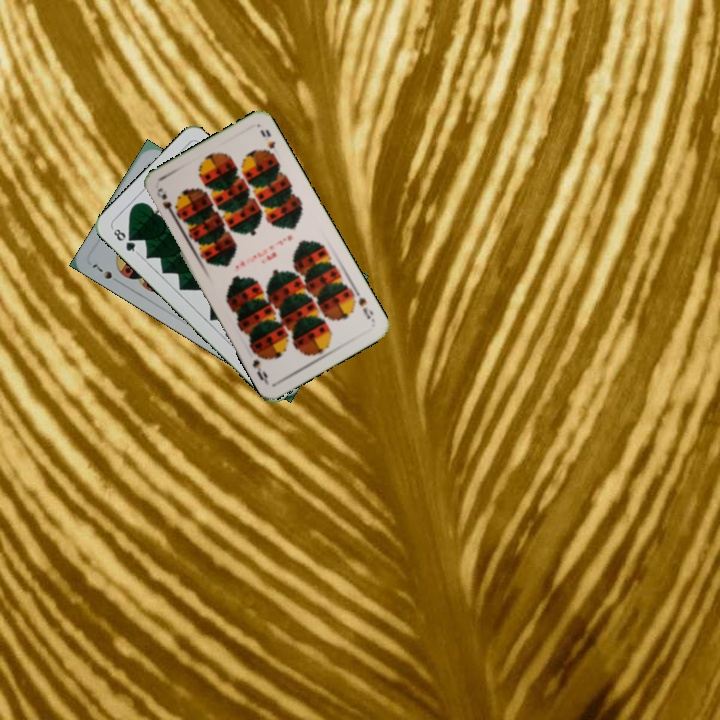G8: (108, 224, 141, 256)
S7: (88, 260, 124, 286)
S9: (352, 287, 377, 324), (157, 190, 181, 221)
